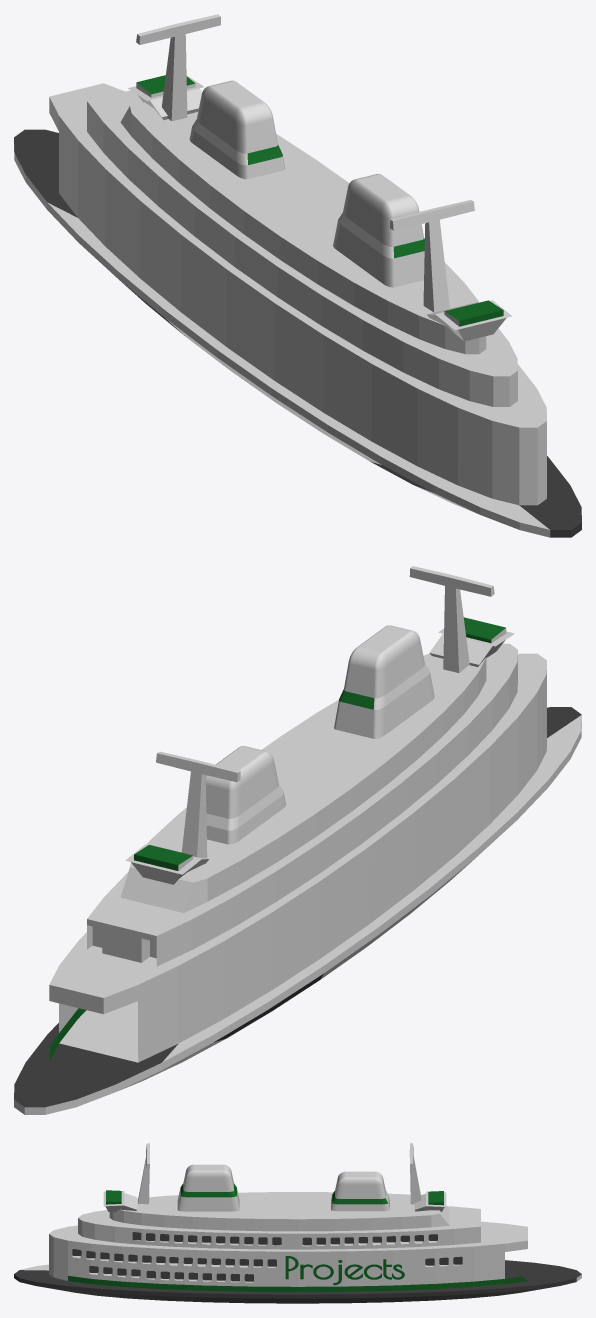
File: ferry.glb
3 renders of one model, top to bottom at view 1: azimuth 30°, elevation 25°; view 2: azimuth 150°, elevation 25°; view 3: azimuth 270°, elevation 25°, orthographic. The views are drawn at different scales.
Visible parts, largest first — view 1: ferry; view 2: ferry; view 3: ferry, Text.
Part boxes in pixels (<box>): ferry: <box>14,14,581,537</box>; ferry: <box>14,566,581,1114</box>; ferry: <box>14,1143,581,1303</box>; Text: <box>285,1256,404,1285</box>.
Bounding box in the file's own units: 2.36 × 3.49 × 13.78.
